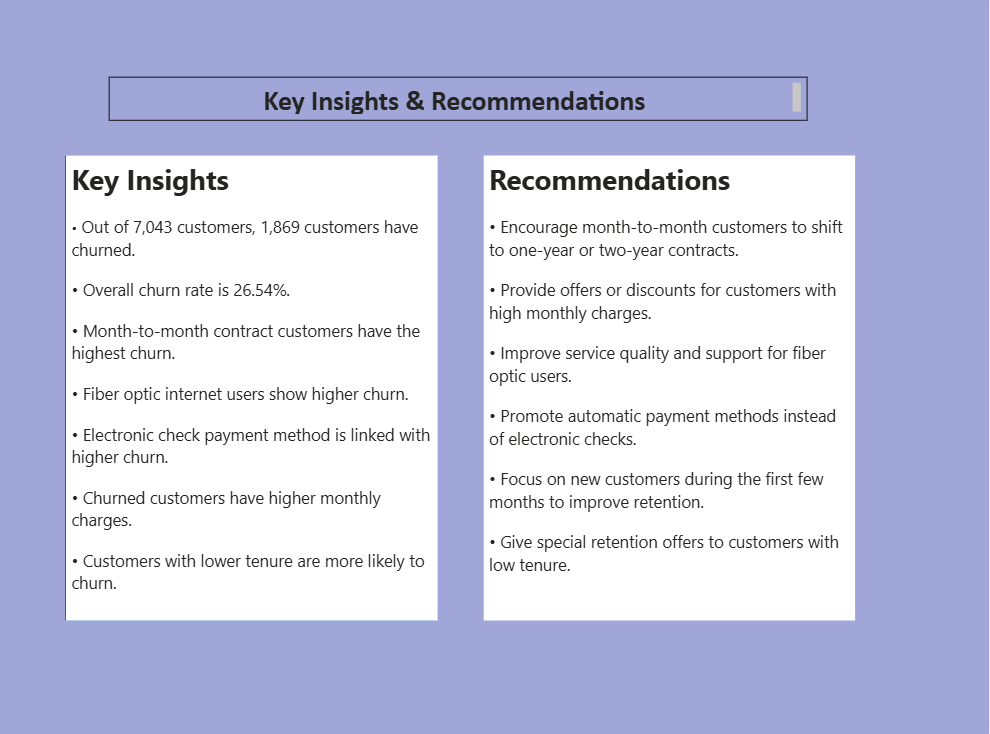

Layout of this report page (visuals, bound fields, positions):
{"tool":"powerbi","page":{"name":"Page 2","canvas":[960,720],"ordinal":1},"visuals":[{"type":"shape","box":[67.6,156.8,358.3,448.8],"z":0},{"type":"textbox","box":[68.8,156.8,358.3,448.8],"z":2},{"type":"textbox","box":[471.7,156.8,358.3,448.8],"z":3},{"type":"textbox","box":[109.8,80.8,674.4,42.2],"z":4}]}

Visuals, with their boxes in screenshot pixels (x1, y1, x2, y2), scaled from the page's 960x720 canvas onto the 990x734 screenshot:
shape: (70,160,439,617)
textbox: (71,160,440,617)
textbox: (486,160,856,617)
textbox: (113,82,809,125)
